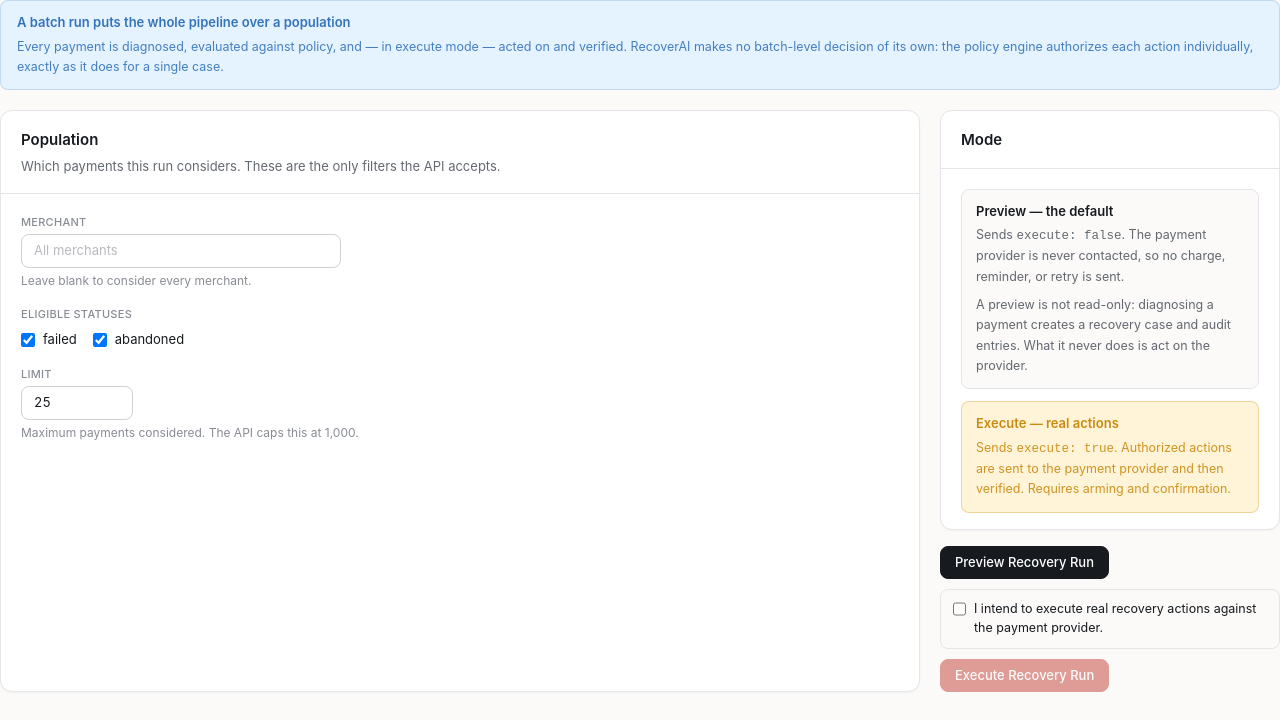
Test: Batch Recovery — duplicate submission and retry › both buttons are disabled while a run is in flight
Click the button "Preview Recovery Run".
click(1024, 563)  # box x1=940 y1=546 x2=1109 y2=579
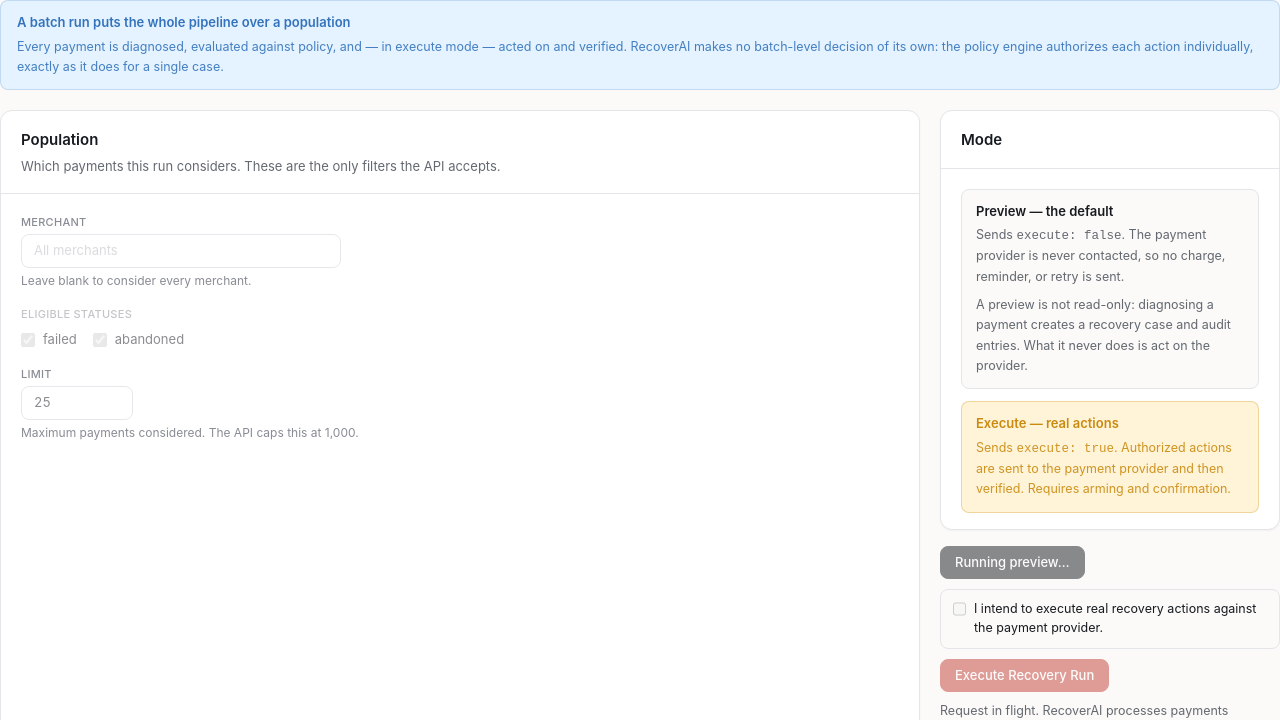
Expected: the button "Execute Recovery Run" is disabled, x1=940 y1=659 x2=1109 y2=692
Now the button "Running preview…" is disabled, box x1=940 y1=546 x2=1084 y2=579
